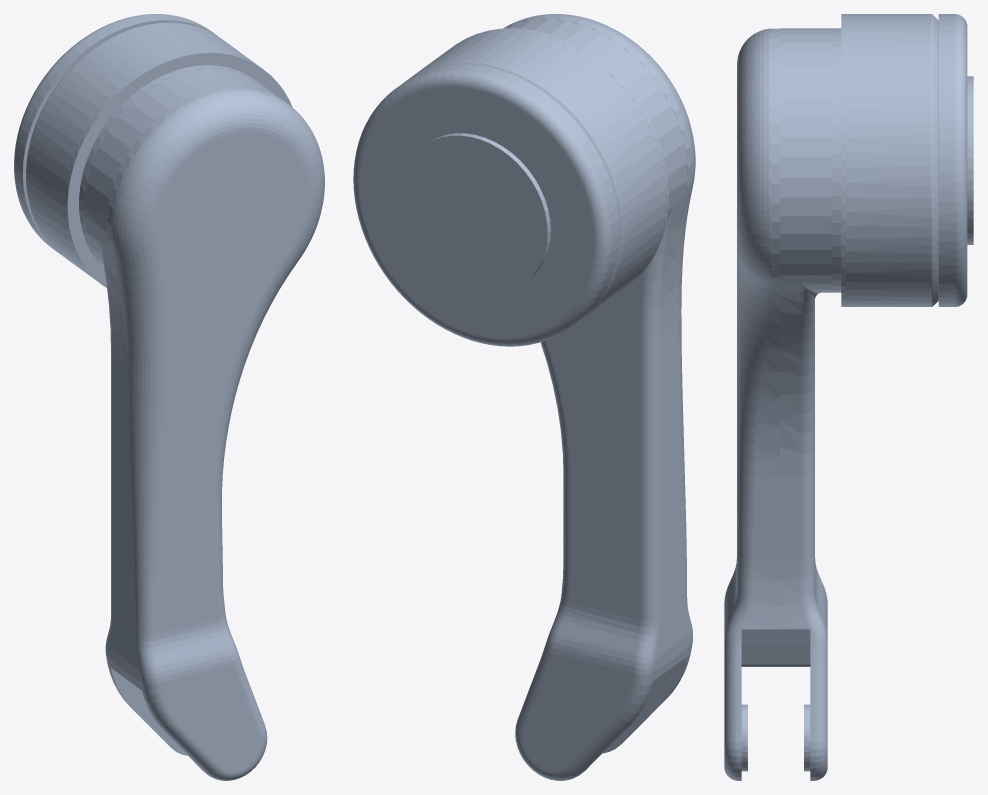
File: thigh_mirror.dae
3 renders of one model, left to right at view 1: azimuth 30°, elevation 25°; view 2: azimuth 150°, elevation 25°; view 3: azimuth 270°, elevation 25°, orthographic. The views are drawn at different scales.
Parts seen in each view (by area): view 1: Thigh Mirror; view 2: Thigh Mirror; view 3: Thigh Mirror.
Part boxes in pixels (x1,y1,x2,y2): Thigh Mirror: [14, 14, 324, 780]; Thigh Mirror: [353, 14, 695, 780]; Thigh Mirror: [724, 14, 973, 780].
Bounding box in the file's own units: 0.092 × 0.0783 × 0.2595.
